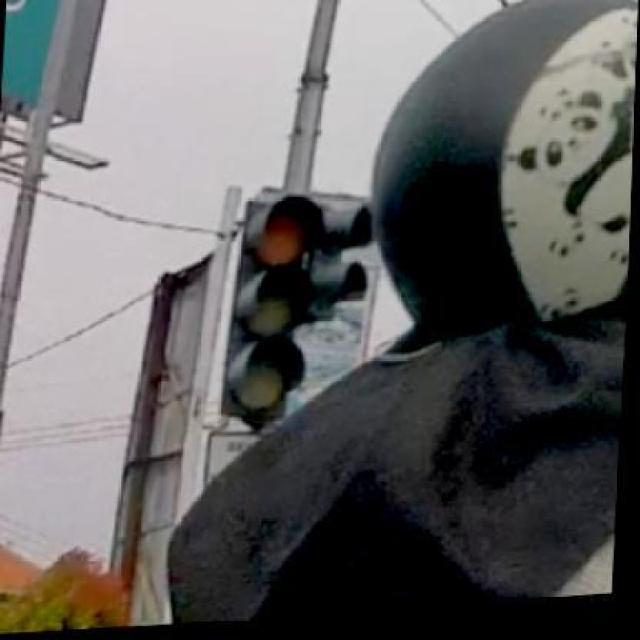Traffic Light -Red-: (218, 188, 318, 435)
